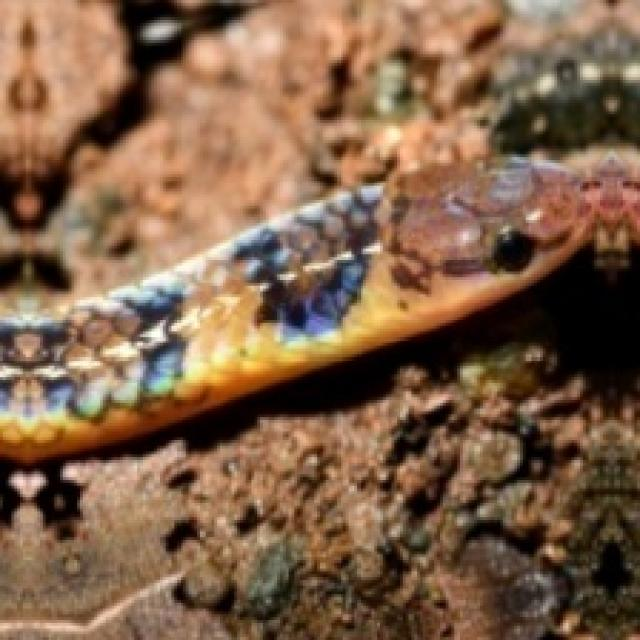luzon dwarf snake: (0, 0, 637, 463), (0, 149, 637, 463)
